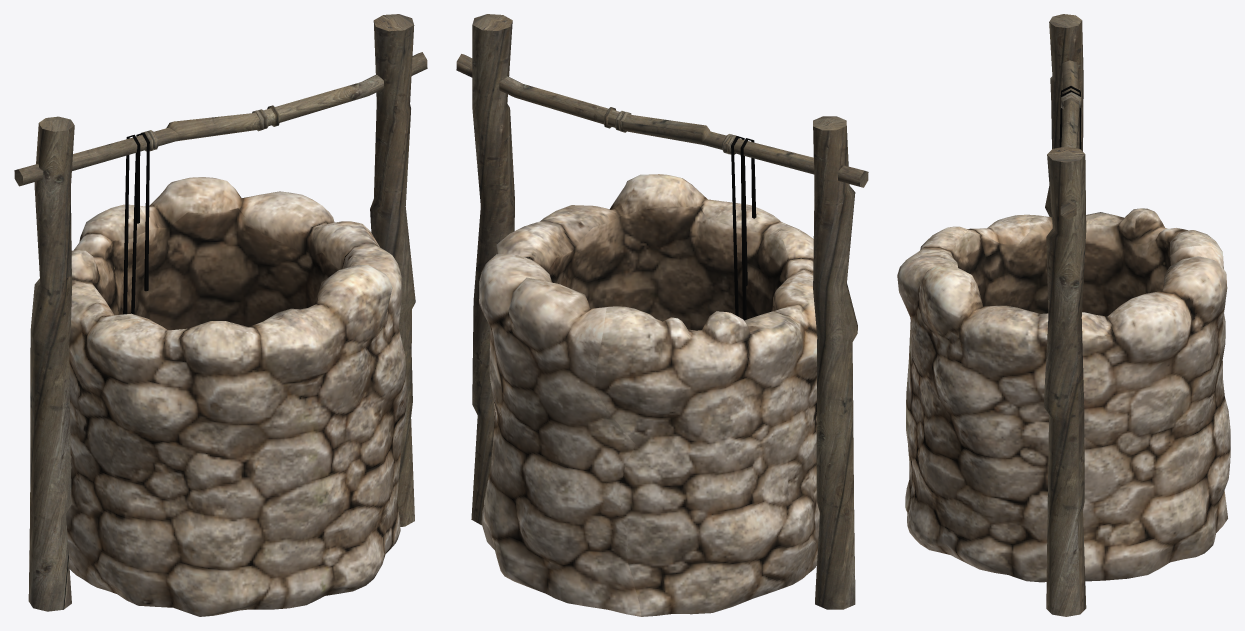
File: shuijing.glb
The picture shows the model from 3 angles, left to right: view 1: azimuth 30°, elevation 25°; view 2: azimuth 150°, elevation 25°; view 3: azimuth 270°, elevation 25°; orthographic projection. The views are drawn at different scales.
Visible parts, largest first — view 1: Asset3DLoader.sceneRoot; view 2: Asset3DLoader.sceneRoot; view 3: Asset3DLoader.sceneRoot.
Boxes of the visible parts, x1=… form: Asset3DLoader.sceneRoot: x1=14, y1=14, x2=427, y2=616; Asset3DLoader.sceneRoot: x1=456, y1=14, x2=868, y2=616; Asset3DLoader.sceneRoot: x1=897, y1=14, x2=1230, y2=616.
Bounding box in the file's own units: 30.98 × 36.61 × 24.15.
3 materials, 3 textured.
